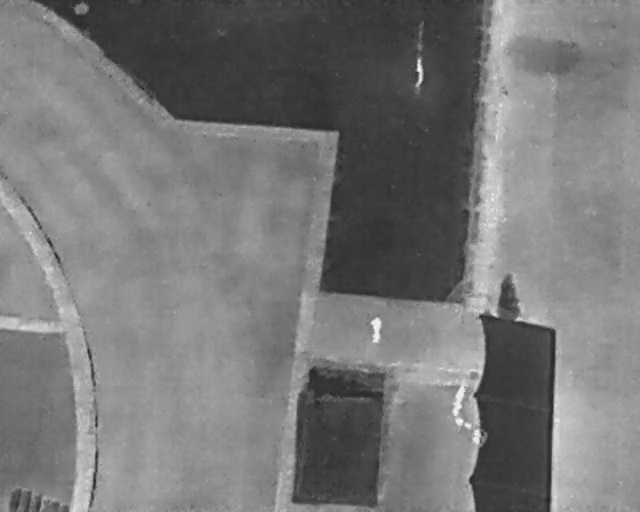Person: (445, 381, 471, 421), (369, 312, 383, 343), (412, 57, 425, 87)
